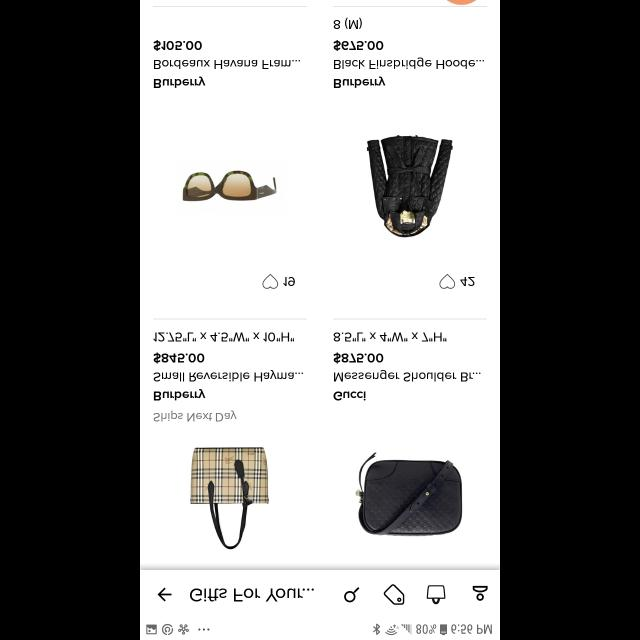icon: (426, 584, 446, 604), (384, 584, 404, 604), (472, 585, 488, 601), (344, 586, 360, 602), (262, 274, 278, 288), (440, 274, 456, 288), (158, 587, 172, 601)
image: (356, 452, 462, 536), (367, 135, 453, 237), (191, 447, 269, 549), (184, 171, 276, 201)
text: (334, 57, 484, 69), (154, 370, 304, 382), (334, 370, 481, 382), (190, 587, 314, 601), (155, 60, 301, 70), (153, 332, 294, 342), (334, 332, 446, 342), (154, 410, 238, 422), (154, 76, 206, 88), (334, 76, 386, 88), (154, 388, 206, 400), (153, 352, 204, 363), (334, 40, 384, 51), (333, 352, 383, 363), (154, 40, 202, 51), (333, 17, 362, 29), (334, 391, 366, 401), (460, 277, 476, 287), (284, 276, 294, 286)
uppertaskbar: (140, 623, 500, 639)
